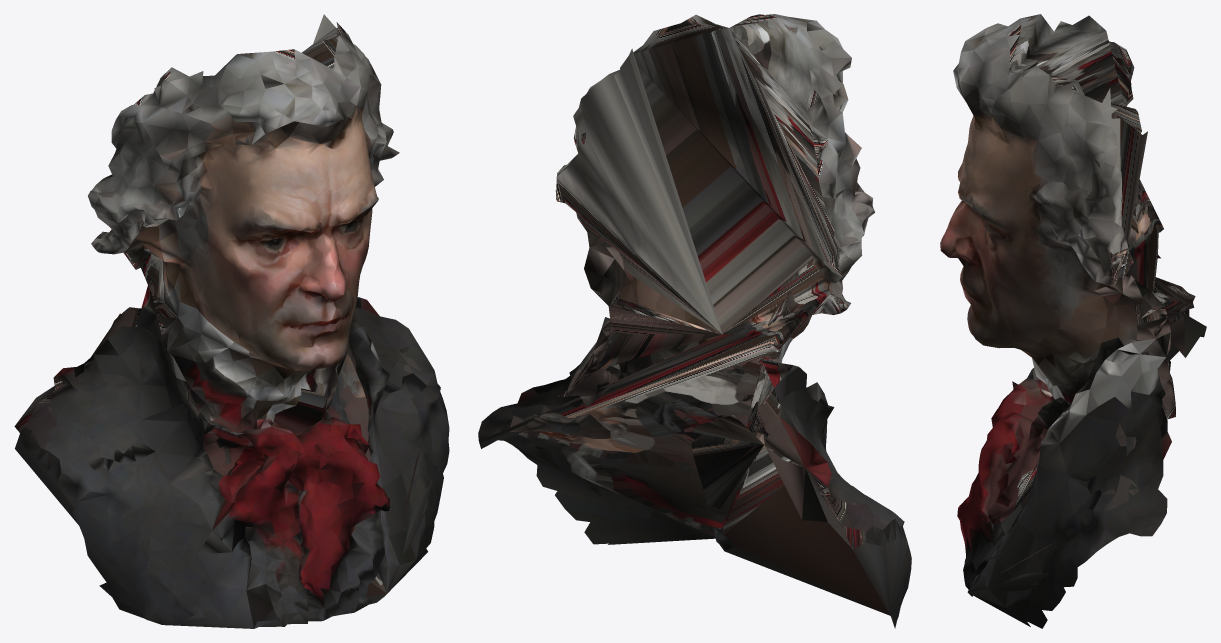
Rendered from Beethoven.glb.
3 renders of one model, left to right at view 1: azimuth 30°, elevation 25°; view 2: azimuth 150°, elevation 25°; view 3: azimuth 270°, elevation 25°, orthographic. The views are drawn at different scales.
Visible parts, largest first — view 1: Object_4; view 2: Object_4; view 3: Object_4.
Part boxes in pixels (<box>): Object_4: <box>14,14,449,628</box>; Object_4: <box>478,14,911,628</box>; Object_4: <box>940,14,1206,628</box>.
Size of the model in its own units: 1.43 by 1.92 by 0.861.
1 material, 1 textured.
